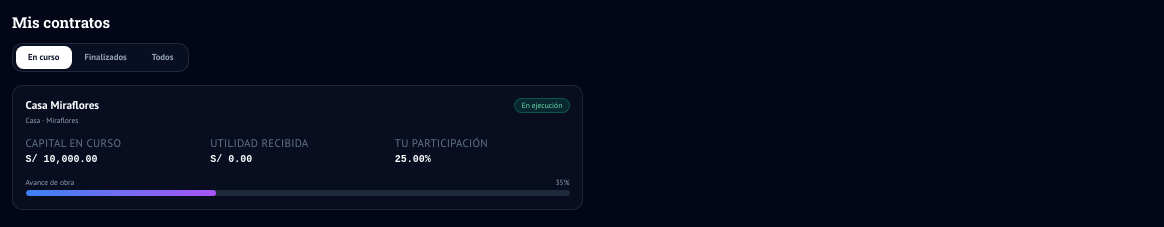
Test: ContratosLista › sin contratos en una pestaña lo explica
This screenshot has width=1164, height=227.
Click the tab "Finalizados" at [106, 57], box [72,46,139,68]
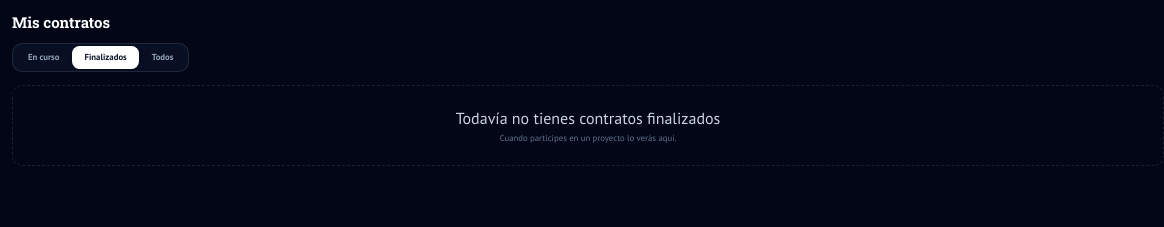
Expected: the text "Todavía no tienes contratos finalizados" is shown, [456,108,720,128]
